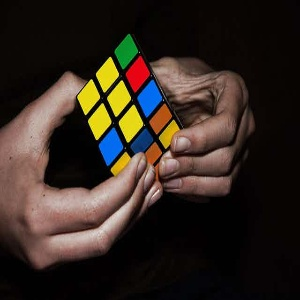cube: (76, 33, 184, 180)
